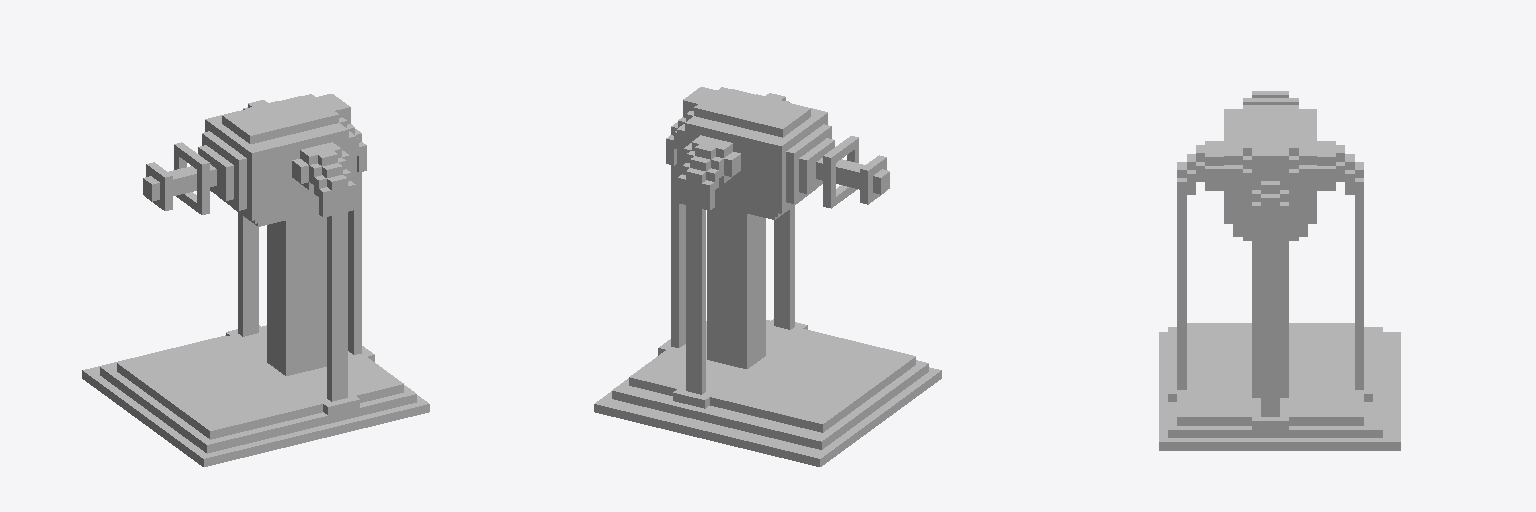
Rendered from turret.obj.
The picture shows the model from 3 angles: view 1: azimuth 30°, elevation 25°; view 2: azimuth 150°, elevation 25°; view 3: azimuth 270°, elevation 25°; orthographic projection.
Parts seen in each view (by area): view 1: turret; view 2: turret; view 3: turret.
Boxes of the visible parts, x1=… form: turret: x1=82, y1=94, x2=429, y2=466; turret: x1=594, y1=87, x2=941, y2=466; turret: x1=1159, y1=91, x2=1400, y2=450.
Size of the model in its own units: 28 by 33 by 26.